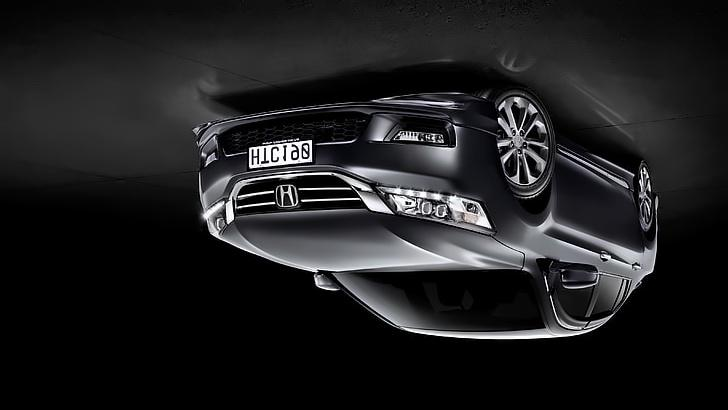Car hood: (215, 209, 527, 271)
Driver-s door - -F-R-: (535, 123, 609, 333)
Fender - -F-R-: (459, 130, 573, 276)
Front bumper: (194, 89, 502, 203)
Headlight - -L-: (203, 193, 239, 238)
Headlight - -R-: (368, 182, 496, 236)
Passenger-s door - -R-R-: (583, 146, 641, 334)
Side bumper - -R-: (548, 131, 636, 205)
Side mirror - -R-: (541, 254, 597, 290)
